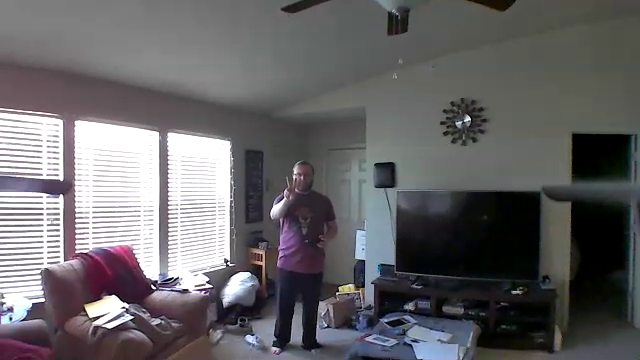peace: (277, 173, 303, 208)
